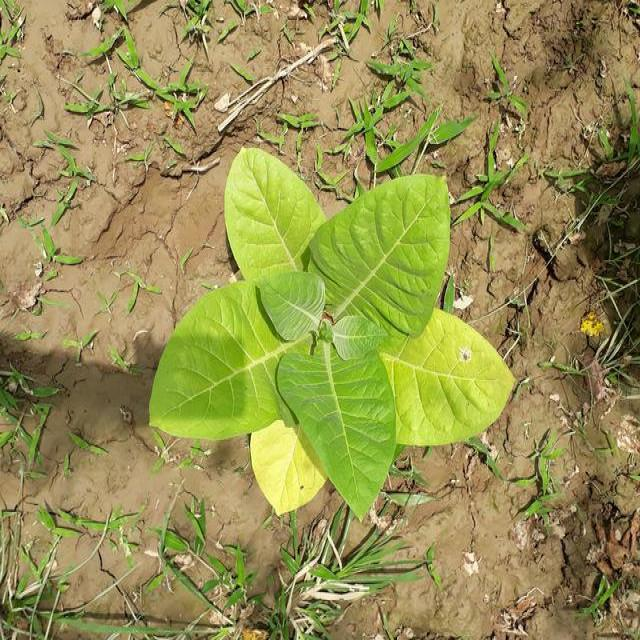crop: (150, 145, 432, 520)
